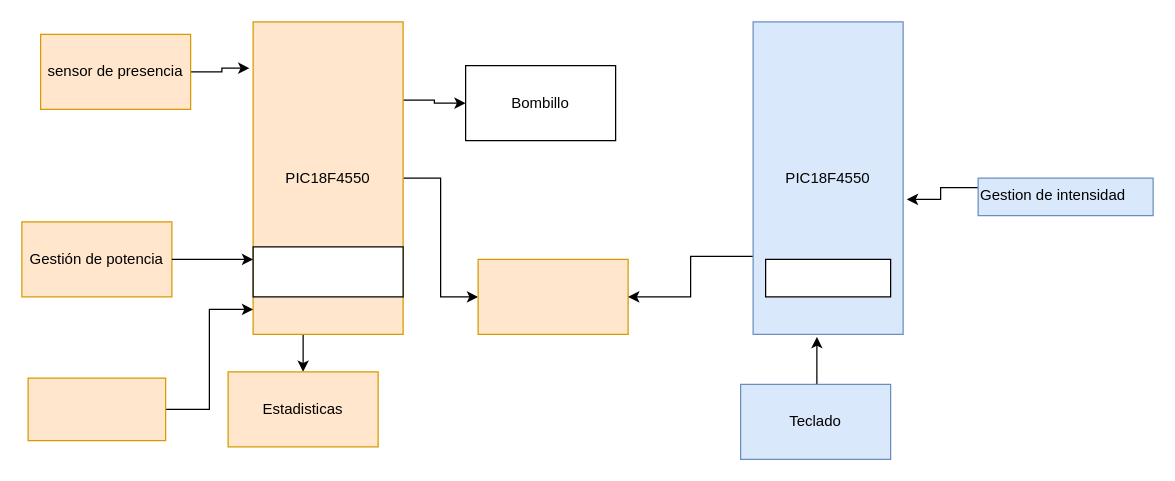
Image size: 1175x481. Some labels were removed from this diagram. The shapes that lost their labels are listed below. From the top down, each one's box as (x1, y1, x2, y2) in pixels, then its label:
(252, 246, 403, 297): Horarios (EEPROM)
(764, 258, 891, 297): clave activacion
(477, 258, 628, 334): bluetooth
(27, 377, 166, 441): RTC
